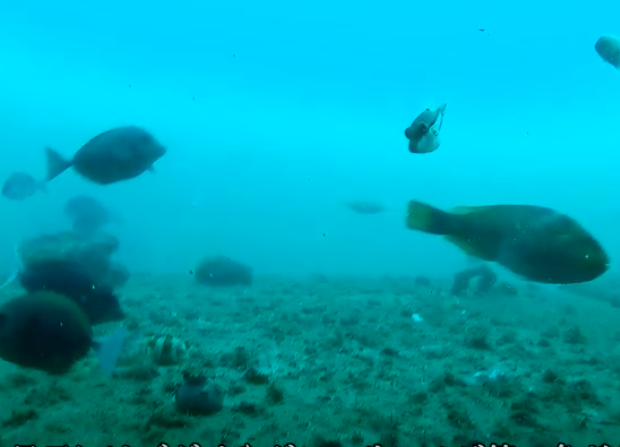hugu: (392, 91, 452, 158)
smallfish: (397, 175, 612, 298), (33, 120, 187, 194)
